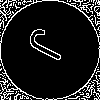J: (25, 25, 77, 68)
